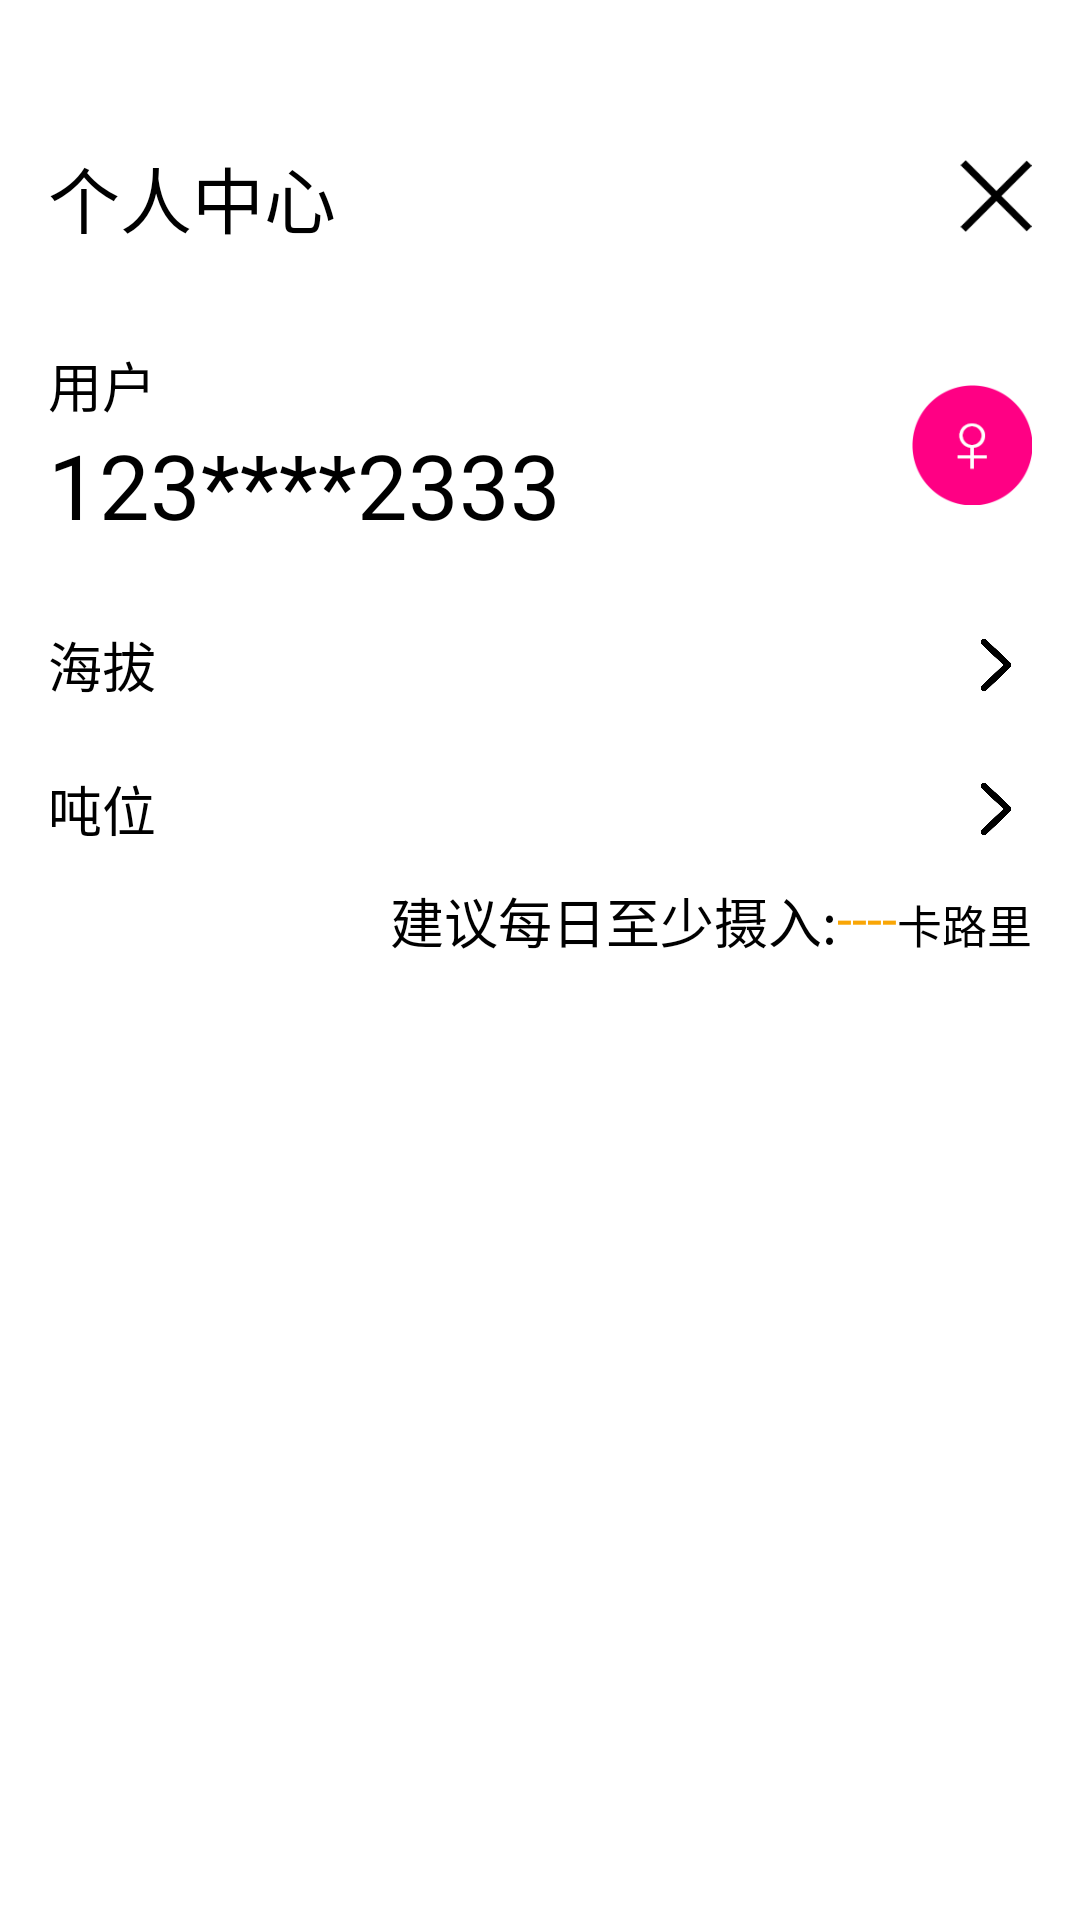

Where to tap for icons on this 1080px×1920px app screen, as (x=x, y=y):
arrow right: (x=996, y=665), (x=996, y=809)
cancel: (x=996, y=196)
sex woman: (x=972, y=445)
